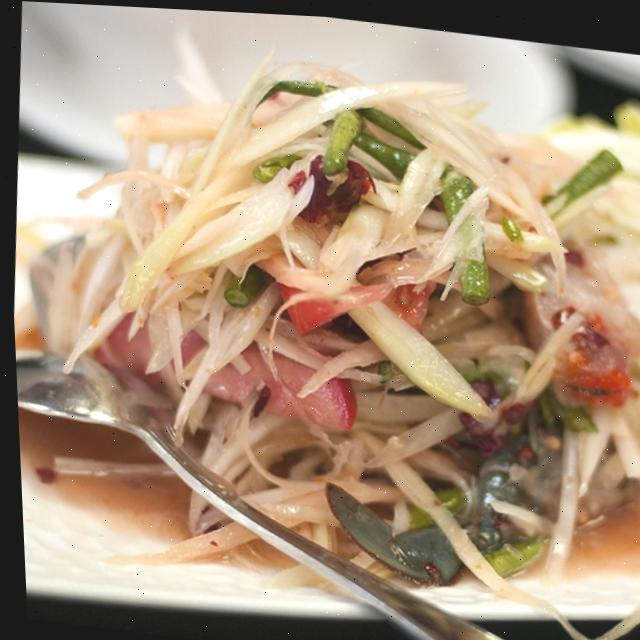蔬菜料理: (1, 0, 640, 640)
